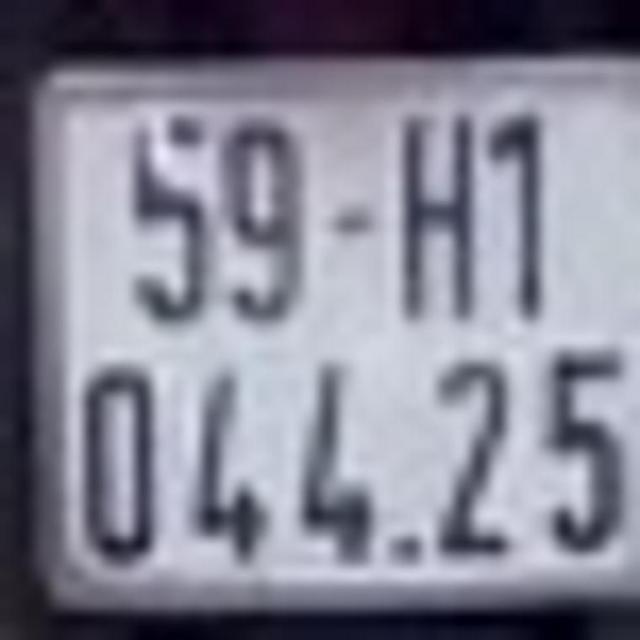0: (72, 350, 155, 558)
1: (488, 105, 546, 321)
2: (428, 348, 516, 564)
4: (294, 358, 380, 564), (192, 356, 274, 564)
5: (122, 116, 212, 319), (544, 347, 628, 548)
9: (225, 119, 306, 320)
H: (395, 102, 478, 326)
